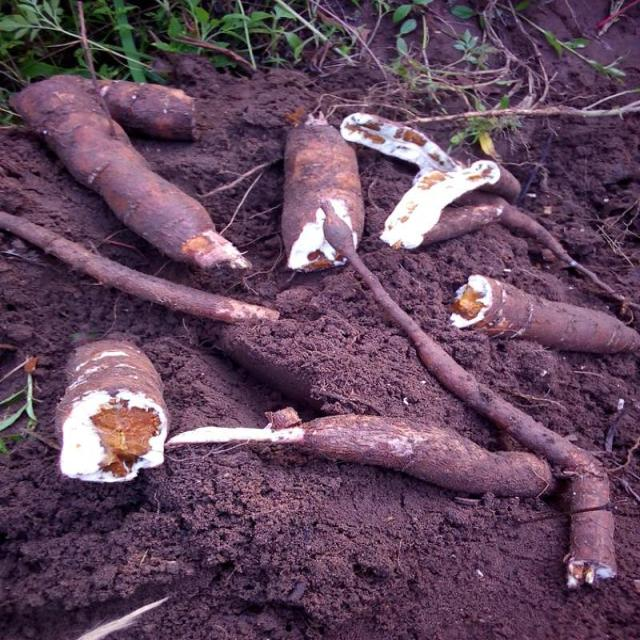cassava leaf: (9, 72, 252, 274), (56, 337, 170, 484), (280, 111, 366, 273)
